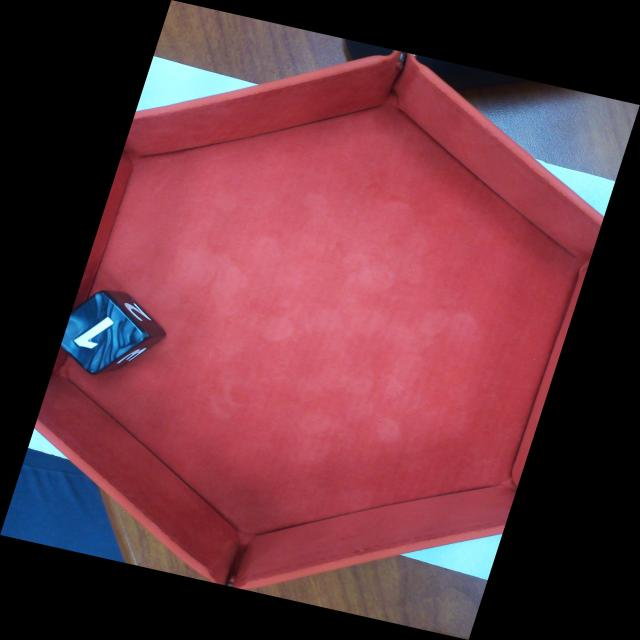dice: (37, 288, 155, 379)
